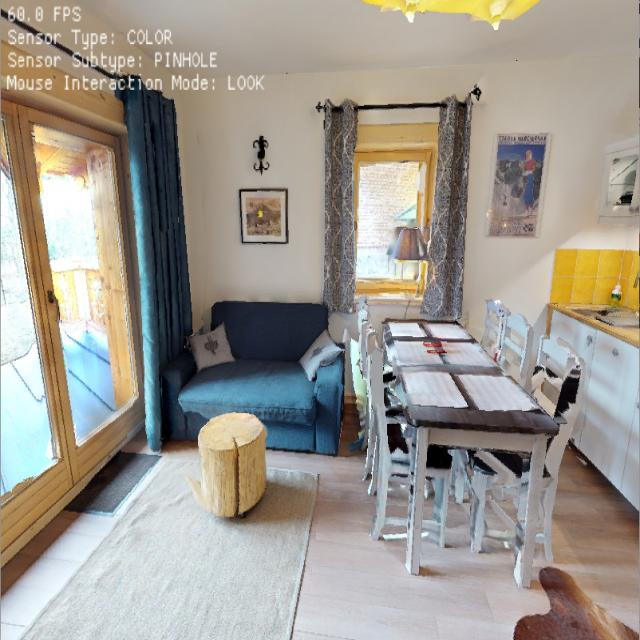chair: (464, 346, 600, 570), (356, 332, 462, 560)
sofa: (161, 286, 361, 456)
table: (385, 307, 550, 570)
